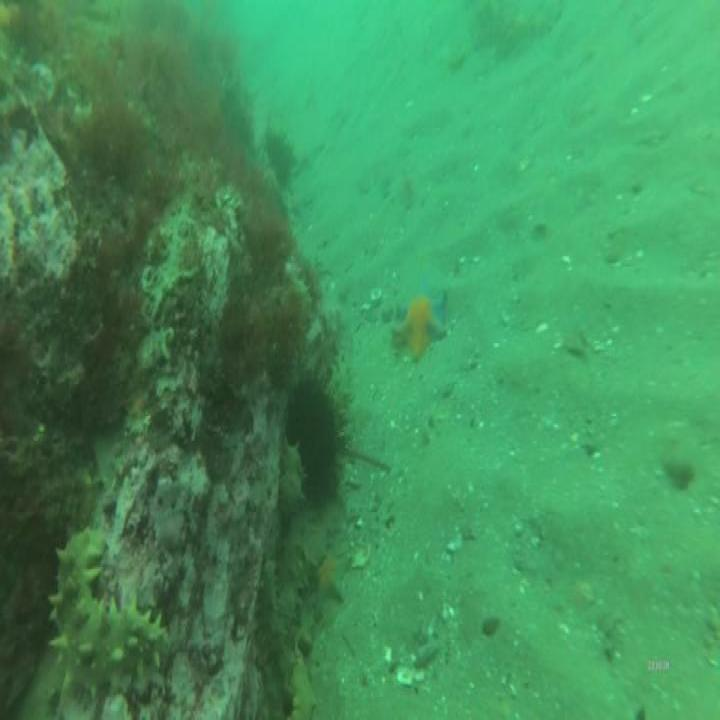echinus: (283, 364, 356, 506)
holothurian: (41, 521, 170, 695), (275, 439, 307, 521), (256, 553, 282, 615)
starfish: (388, 292, 448, 369), (310, 544, 350, 606)
